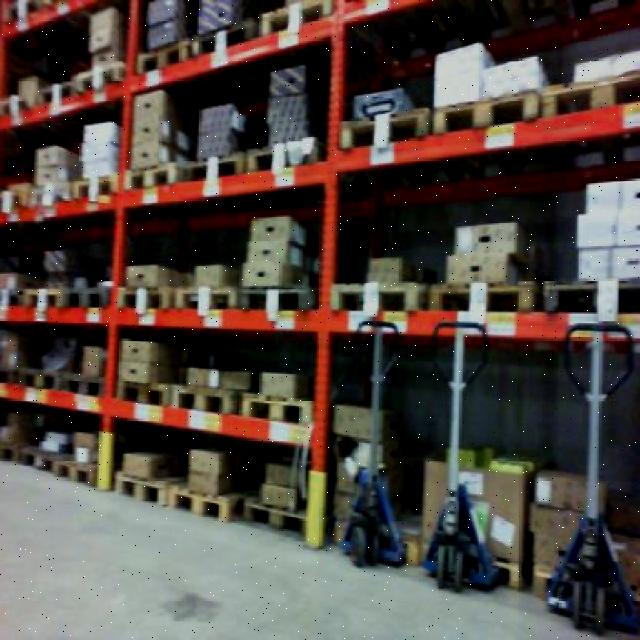pallet: (427, 80, 547, 144), (420, 267, 544, 321), (334, 97, 436, 159), (532, 268, 640, 324), (538, 69, 640, 120), (242, 130, 328, 189), (326, 274, 431, 322), (162, 478, 242, 530), (238, 491, 322, 537), (181, 142, 250, 196), (236, 386, 326, 426), (236, 280, 328, 318), (190, 9, 256, 61), (132, 29, 192, 83), (116, 159, 187, 203), (105, 464, 173, 508), (168, 376, 245, 414), (173, 277, 246, 314), (72, 61, 132, 99), (116, 283, 181, 317), (114, 376, 178, 410), (58, 366, 114, 404), (12, 362, 68, 398), (74, 170, 125, 208), (48, 448, 96, 488), (28, 77, 78, 111), (60, 282, 116, 311), (18, 284, 72, 310)
